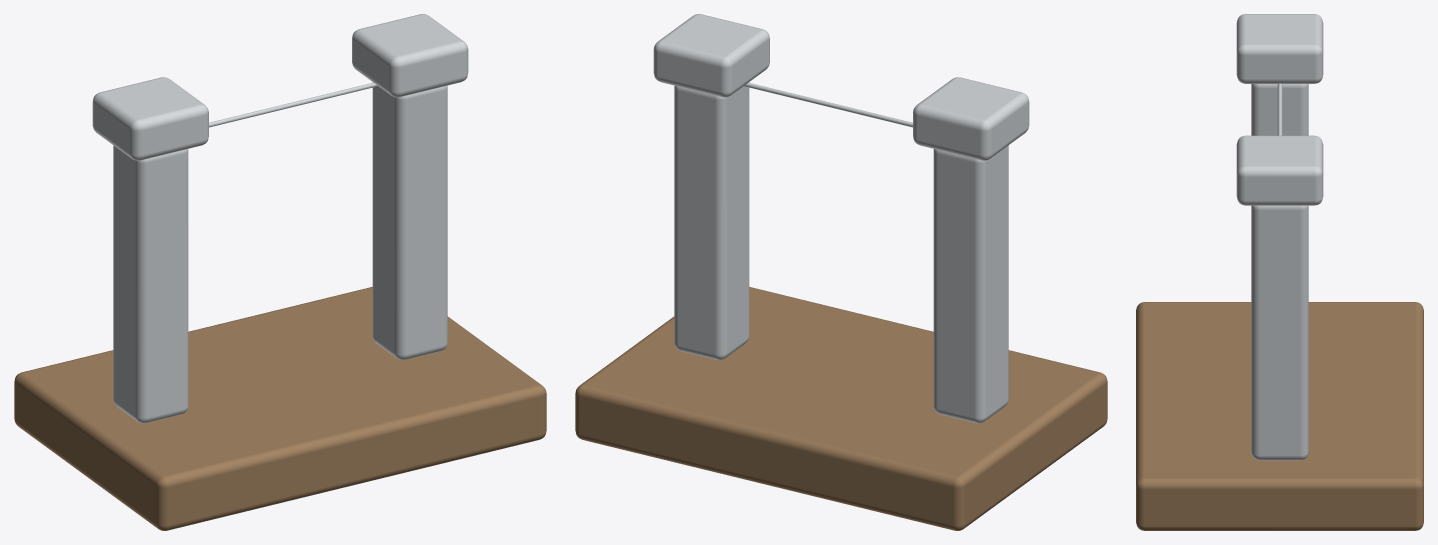
The model's file is marquetry-and-veneer-inlay-workshop-fret-saw-blade-ten-c2f540de__39084.glb.
3 renders of one model, left to right at view 1: azimuth 30°, elevation 25°; view 2: azimuth 150°, elevation 25°; view 3: azimuth 270°, elevation 25°, orthographic. The views are drawn at different scales.
Parts seen in each view (by area): view 1: fret-saw-blade-tension-fixture; view 2: fret-saw-blade-tension-fixture; view 3: fret-saw-blade-tension-fixture.
Boxes of the visible parts, <box> form: fret-saw-blade-tension-fixture: <box>14,14,546,530</box>; fret-saw-blade-tension-fixture: <box>575,14,1107,530</box>; fret-saw-blade-tension-fixture: <box>1136,14,1423,530</box>.
Bounding box in the file's own units: 0.3 × 0.27 × 0.2.
